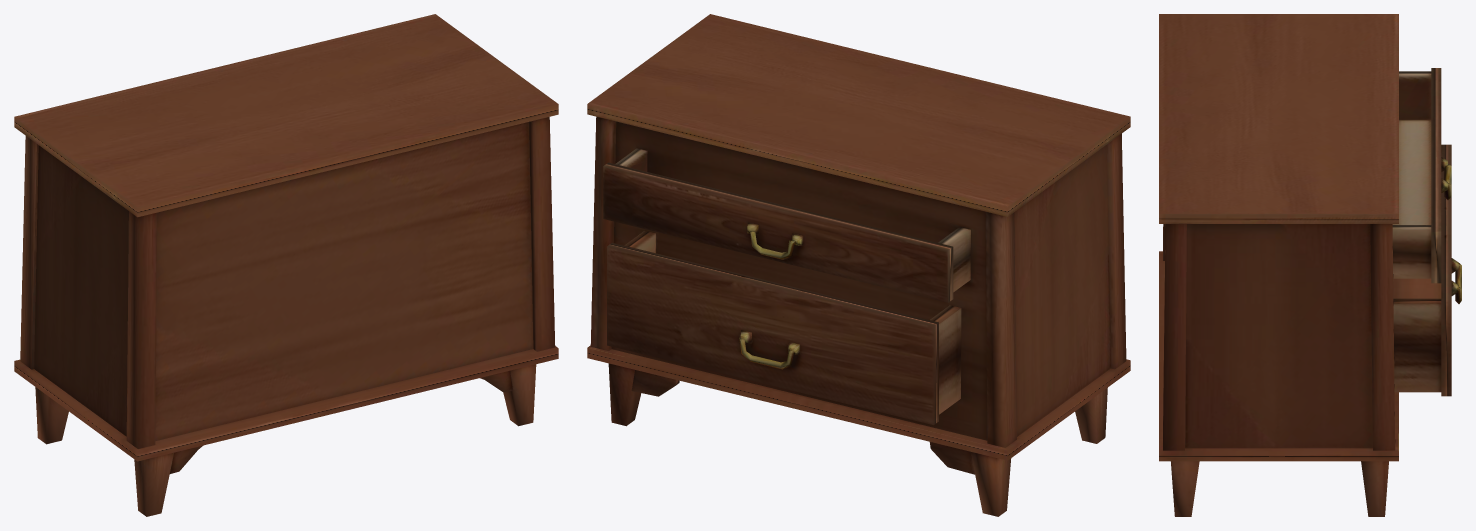
Rendered from Furn_Sideboard_Bedside.glb.
3 views of the same model, side by side, from view 1: azimuth 30°, elevation 25°; view 2: azimuth 150°, elevation 25°; view 3: azimuth 270°, elevation 25° (orthographic). The views are drawn at different scales.
Visible parts, largest first — view 1: tripo_node_c6ae6802-283d-4967-ae78-474d78ada319; view 2: tripo_node_c6ae6802-283d-4967-ae78-474d78ada319; view 3: tripo_node_c6ae6802-283d-4967-ae78-474d78ada319.
Part boxes in pixels (x1,y1,x2,y2): tripo_node_c6ae6802-283d-4967-ae78-474d78ada319: [14, 14, 558, 516]; tripo_node_c6ae6802-283d-4967-ae78-474d78ada319: [587, 14, 1130, 516]; tripo_node_c6ae6802-283d-4967-ae78-474d78ada319: [1159, 14, 1461, 516].
Bounding box in the file's own units: 1.03 × 0.75 × 0.6611.
1 material, 1 textured.
